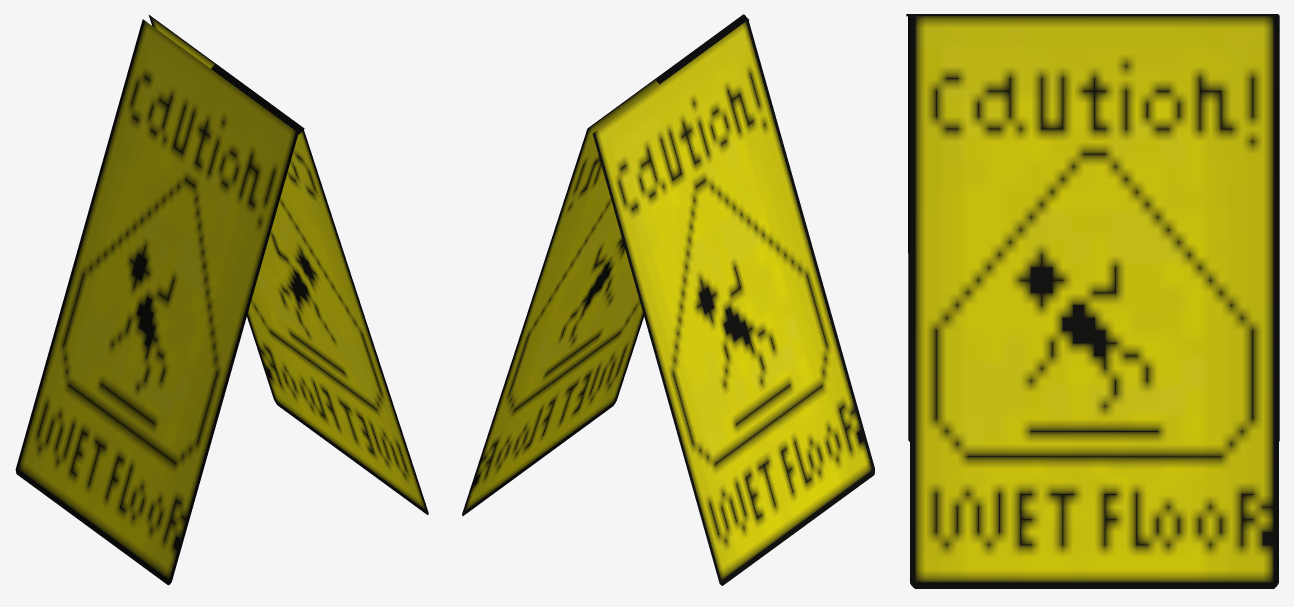
Rendered from BLOCKYYGON_WET FLOOR SIGN.fbx.
3 renders of one model, left to right at view 1: azimuth 30°, elevation 25°; view 2: azimuth 150°, elevation 25°; view 3: azimuth 270°, elevation 25°, orthographic. The views are drawn at different scales.
Visible parts, largest first — view 1: BLOCKYYGON_WET_FLOOR_SIGN; view 2: BLOCKYYGON_WET_FLOOR_SIGN; view 3: BLOCKYYGON_WET_FLOOR_SIGN.
Part boxes in pixels (box(x1,y1,x2,y2)): BLOCKYYGON_WET_FLOOR_SIGN: box(15, 15, 428, 585); BLOCKYYGON_WET_FLOOR_SIGN: box(462, 14, 874, 585); BLOCKYYGON_WET_FLOOR_SIGN: box(906, 14, 1279, 588).
Bounding box in the file's own units: 28.17 × 44.63 × 29.27.
1 material, 1 textured.
